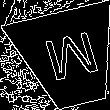M_S: (36, 29, 101, 89)
